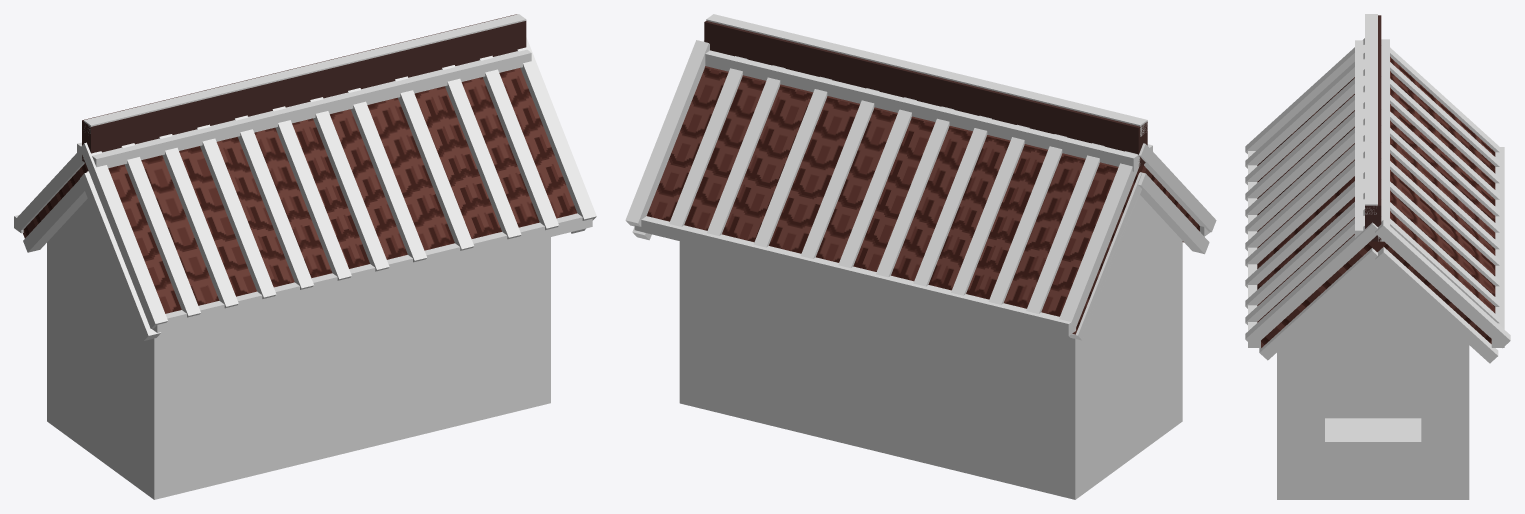
The model's file is Building_NeonLightOneWindow.fbx.
The picture shows the model from 3 angles, left to right: view 1: azimuth 30°, elevation 25°; view 2: azimuth 150°, elevation 25°; view 3: azimuth 270°, elevation 25°; orthographic projection. The views are drawn at different scales.
Parts seen in each view (by area): view 1: Cube.172, Plane.013, Cube.085, Cube.106, Cube.086, Cube.090, Cube.108, Cube.109, Cube.126, Cube.134, Cube.130, Cube.127 (+10 smaller); view 2: Cube.172, Plane.012, Cube.085, Cube.087, Cube.091, Cube.090, Cube.110, Cube.107, Cube.128, Cube.117, Cube.132, Cube.120 (+10 smaller); view 3: Cube.172, Plane.012, Cube.174, Plane.013, Cube.110, Cube.109, Cube.090, Cube.111, Cube.112, Cube.106, Cube.123, Cube.127 (+24 smaller).
Boxes of the visible parts, x1,y1,x2,y2 form: Cube.172: [47, 198, 550, 499]; Plane.013: [108, 68, 577, 313]; Cube.085: [82, 14, 526, 162]; Cube.106: [92, 49, 531, 168]; Cube.086: [152, 213, 592, 332]; Cube.090: [83, 14, 526, 133]; Cube.108: [80, 142, 167, 328]; Cube.109: [517, 37, 596, 220]; Cube.126: [310, 97, 389, 271]; Cube.134: [479, 55, 558, 230]; Cube.130: [395, 76, 474, 250]; Cube.127: [348, 88, 427, 262]; Cube.172: [679, 195, 1182, 499]; Plane.012: [646, 68, 1143, 334]; Cube.085: [704, 21, 1147, 167]; Cube.087: [634, 216, 1075, 335]; Cube.091: [705, 50, 1140, 171]; Cube.090: [706, 14, 1147, 136]; Cube.110: [625, 40, 709, 226]; Cube.107: [1059, 151, 1138, 328]; Cube.128: [800, 88, 879, 258]; Cube.117: [988, 134, 1066, 304]; Cube.132: [707, 65, 785, 235]; Cube.120: [951, 124, 1029, 295]; Cube.172: [1277, 262, 1469, 499]; Plane.012: [1384, 58, 1495, 343]; Cube.174: [1325, 354, 1421, 418]; Plane.013: [1257, 56, 1390, 347]; Cube.110: [1375, 220, 1510, 348]; Cube.109: [1245, 222, 1377, 346]; Cube.090: [1365, 14, 1377, 214]; Cube.111: [1375, 247, 1498, 363]; Cube.112: [1259, 248, 1377, 360]; Cube.106: [1355, 40, 1364, 237]; Cube.123: [1245, 118, 1364, 234]; Cube.127: [1245, 151, 1364, 267].
Size of the model in its own units: 590 by 433 by 341.
37 materials, 2 textured.
